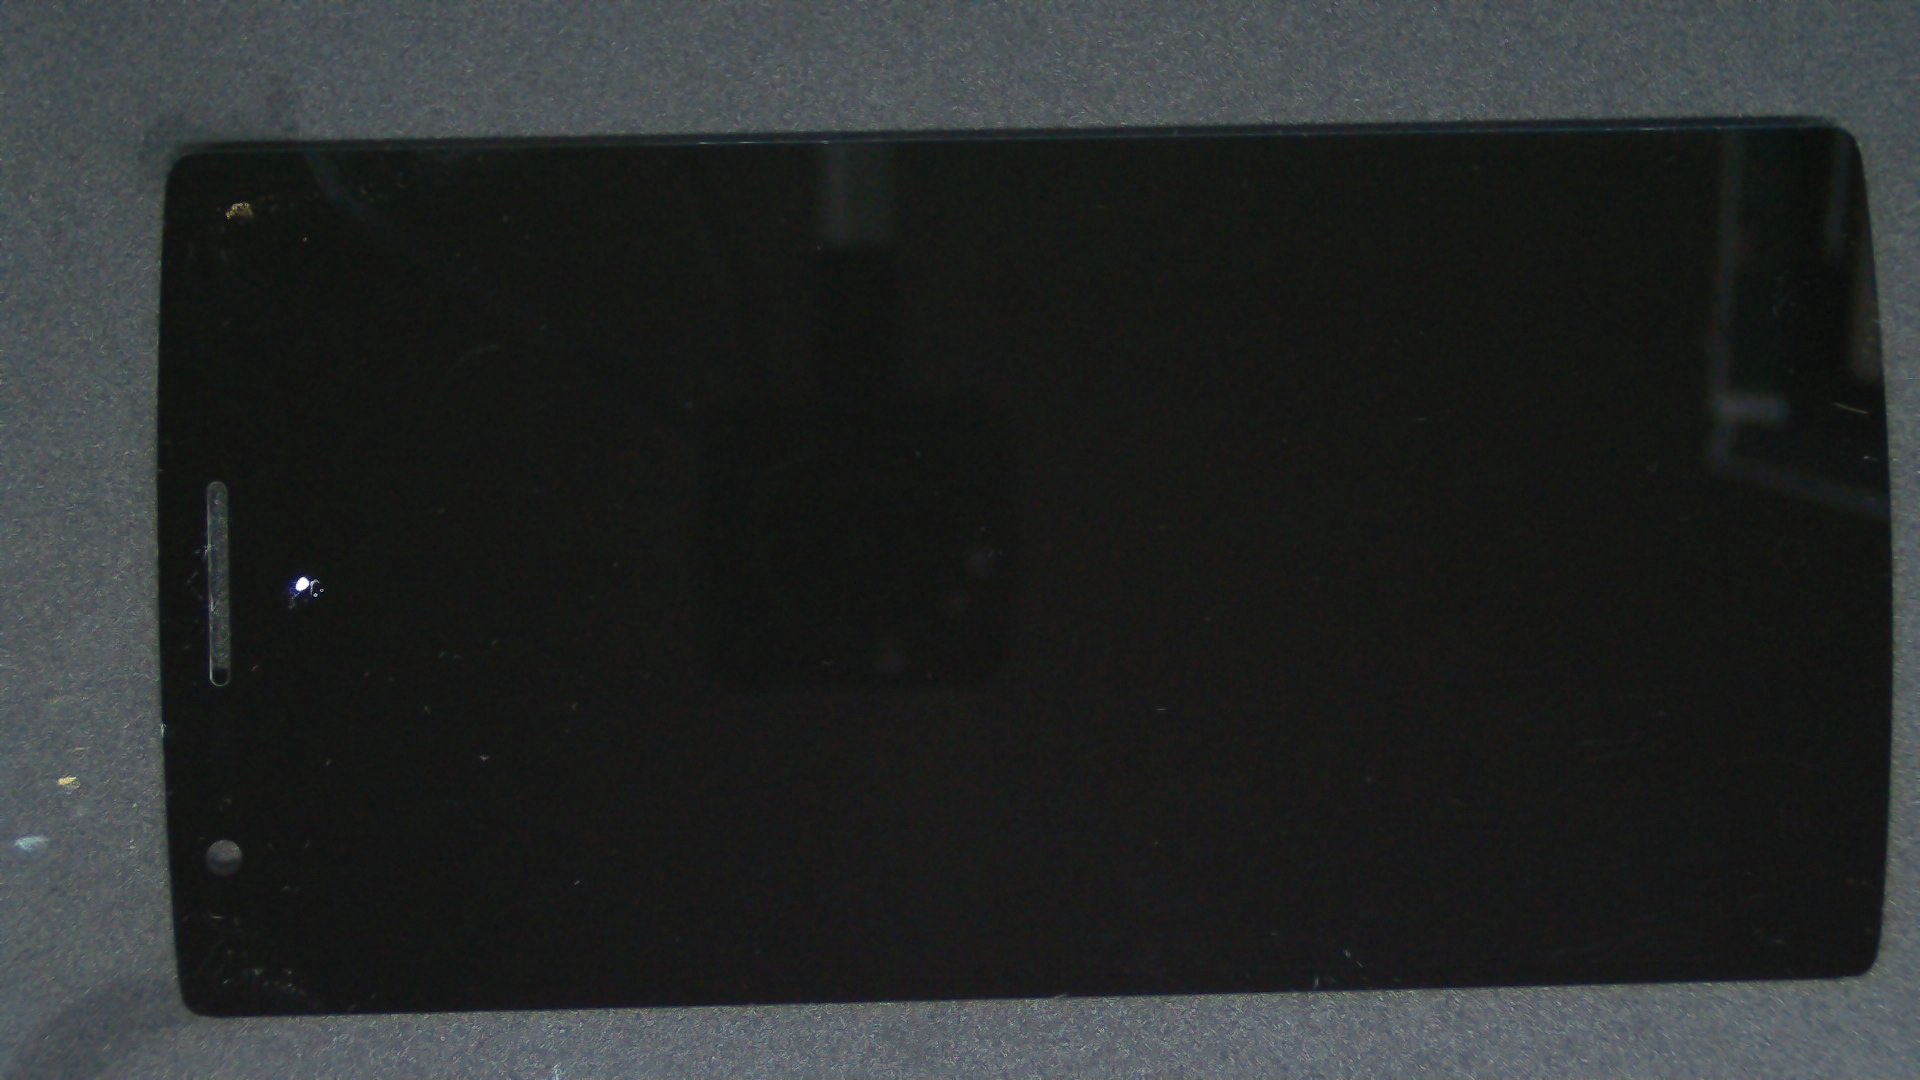oil: (153, 287, 458, 865)
